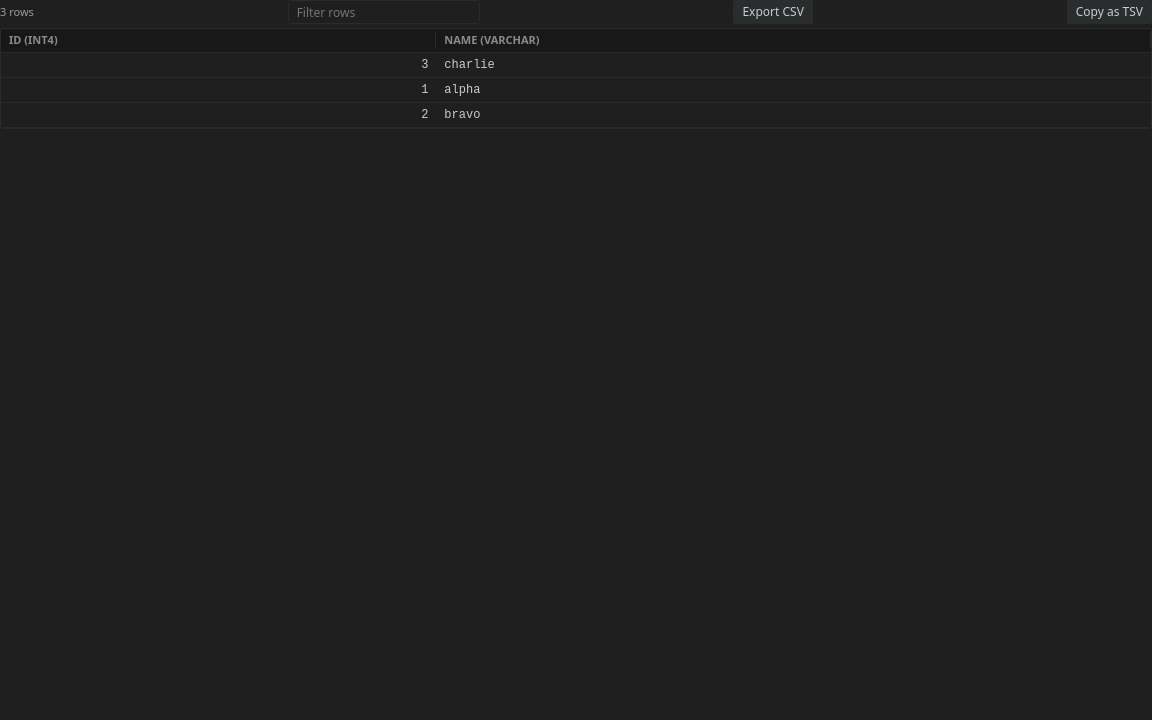
Scenario: ResultsGrid — cell viewer › clicking a cell opens a panel with the full value and a copy button
Click the text "alpha".
click(794, 90)  # box x1=436 y1=78 x2=1151 y2=103
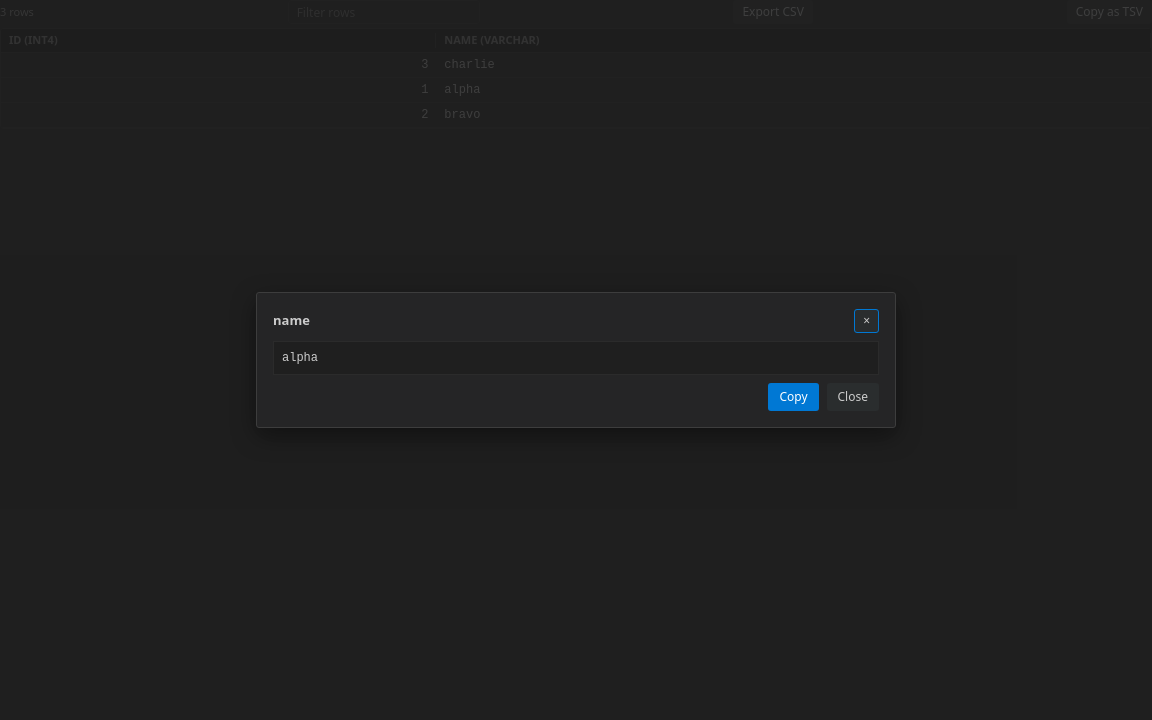
Check: the dialog is shown, box x1=256 y1=292 x2=896 y2=428
Check: the text "alpha" is shown, box x1=273 y1=341 x2=879 y2=375
Check: the button "Copy" is shown, box x1=768 y1=383 x2=818 y2=411
